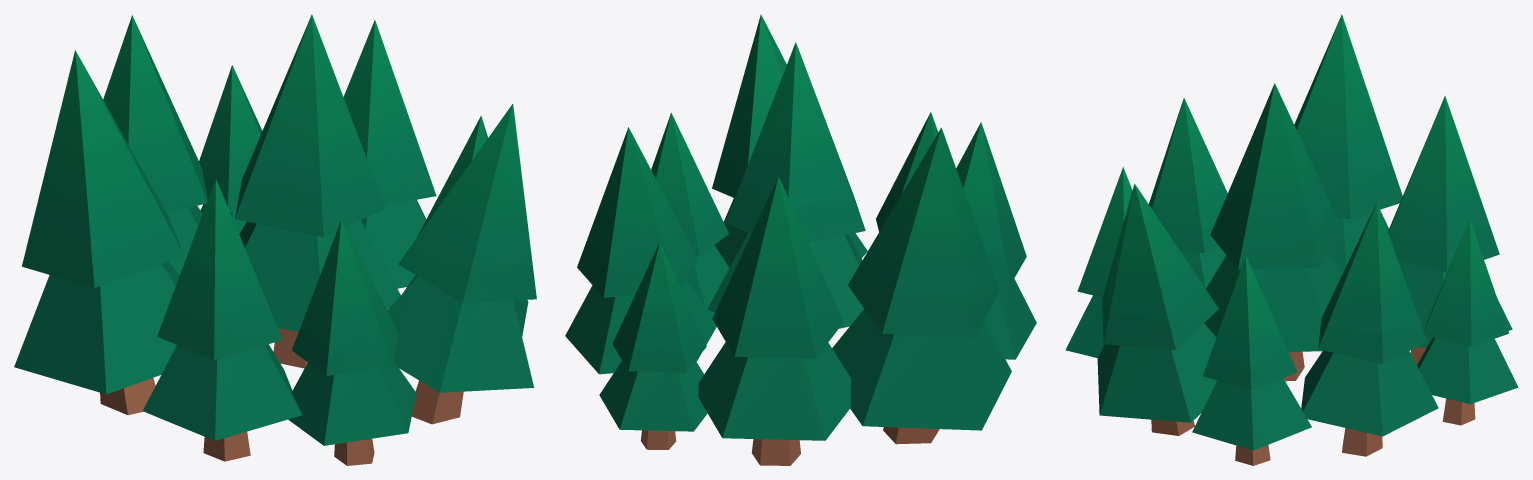
File: trees_A_small.glb
The picture shows the model from 3 angles, left to right: view 1: azimuth 30°, elevation 25°; view 2: azimuth 150°, elevation 25°; view 3: azimuth 270°, elevation 25°; orthographic projection. The views are drawn at different scales.
Visible parts, largest first — view 1: trees_A_small; view 2: trees_A_small; view 3: trees_A_small.
Part boxes in pixels (x1,y1,x2,y2): trees_A_small: (14,14,536,465); trees_A_small: (565,14,1036,465); trees_A_small: (1065,14,1518,465).
Bounding box in the file's own units: 1.43 × 1.11 × 1.44.
Materials: 1 (1 with a texture image).
